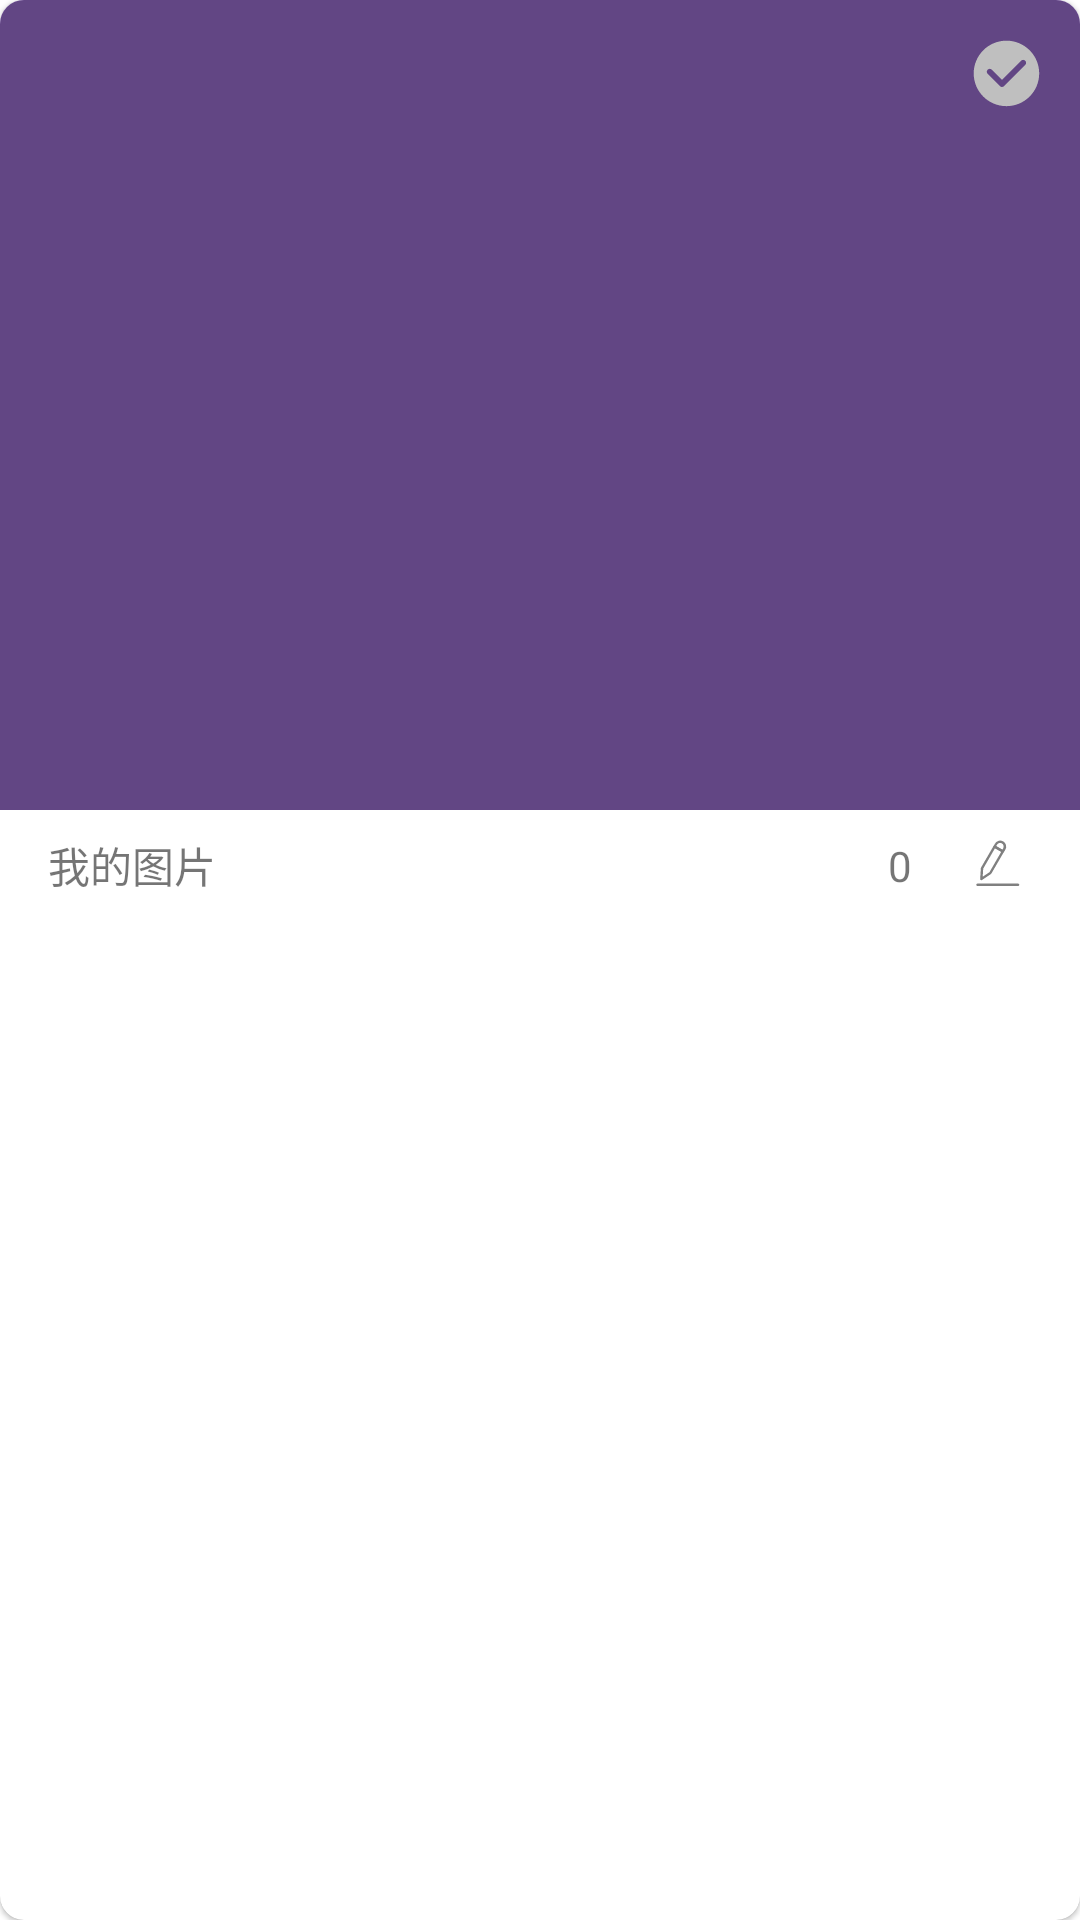

Screen size 1080×1920. Icon name, then its box in pixels as (x1, y1, x2, y2):
checkbox: (973, 40, 1040, 107)
rename: (976, 840, 1019, 886)
